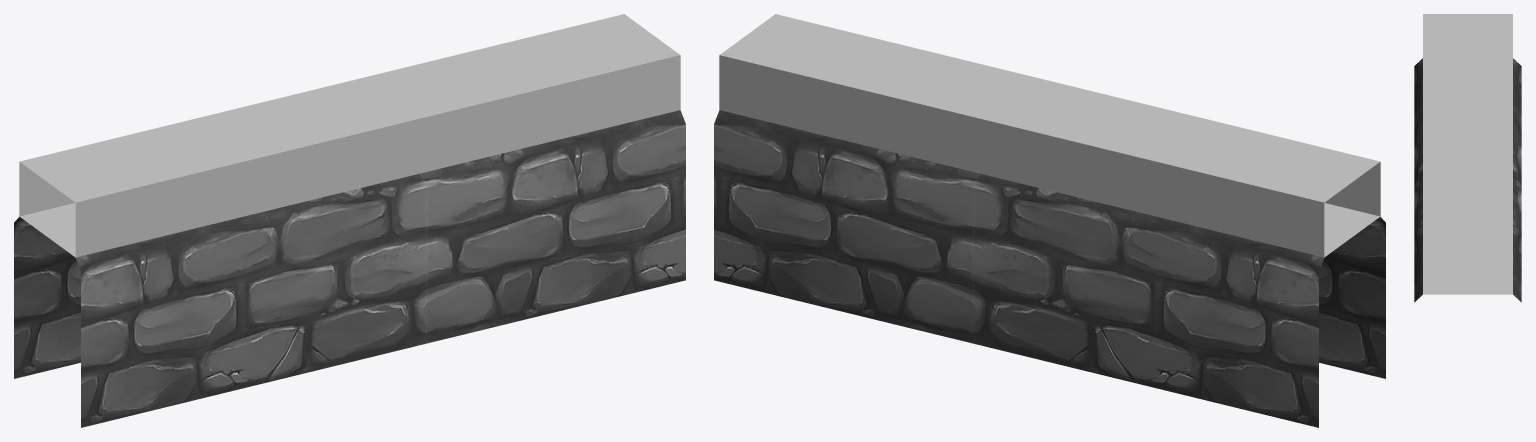
Rendered from MOD_cut_rock_wall_02.fbx.
The picture shows the model from 3 angles, left to right: view 1: azimuth 30°, elevation 25°; view 2: azimuth 150°, elevation 25°; view 3: azimuth 270°, elevation 25°; orthographic projection. The views are drawn at different scales.
Parts seen in each view (by area): view 1: cut_rock_wall_02; view 2: cut_rock_wall_02; view 3: cut_rock_wall_02.
Boxes of the visible parts, x1,y1,x2,y2 form: cut_rock_wall_02: (14, 14, 685, 427); cut_rock_wall_02: (714, 14, 1385, 427); cut_rock_wall_02: (1414, 14, 1521, 302).
Size of the model in its own units: 118 by 22.62 by 41.3.
